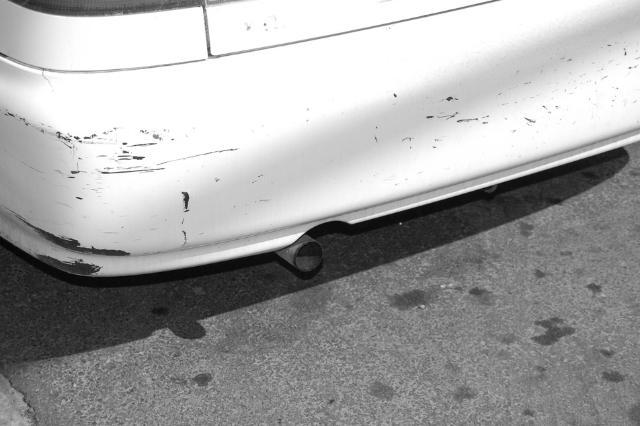Bumper: (0, 87, 240, 289)
